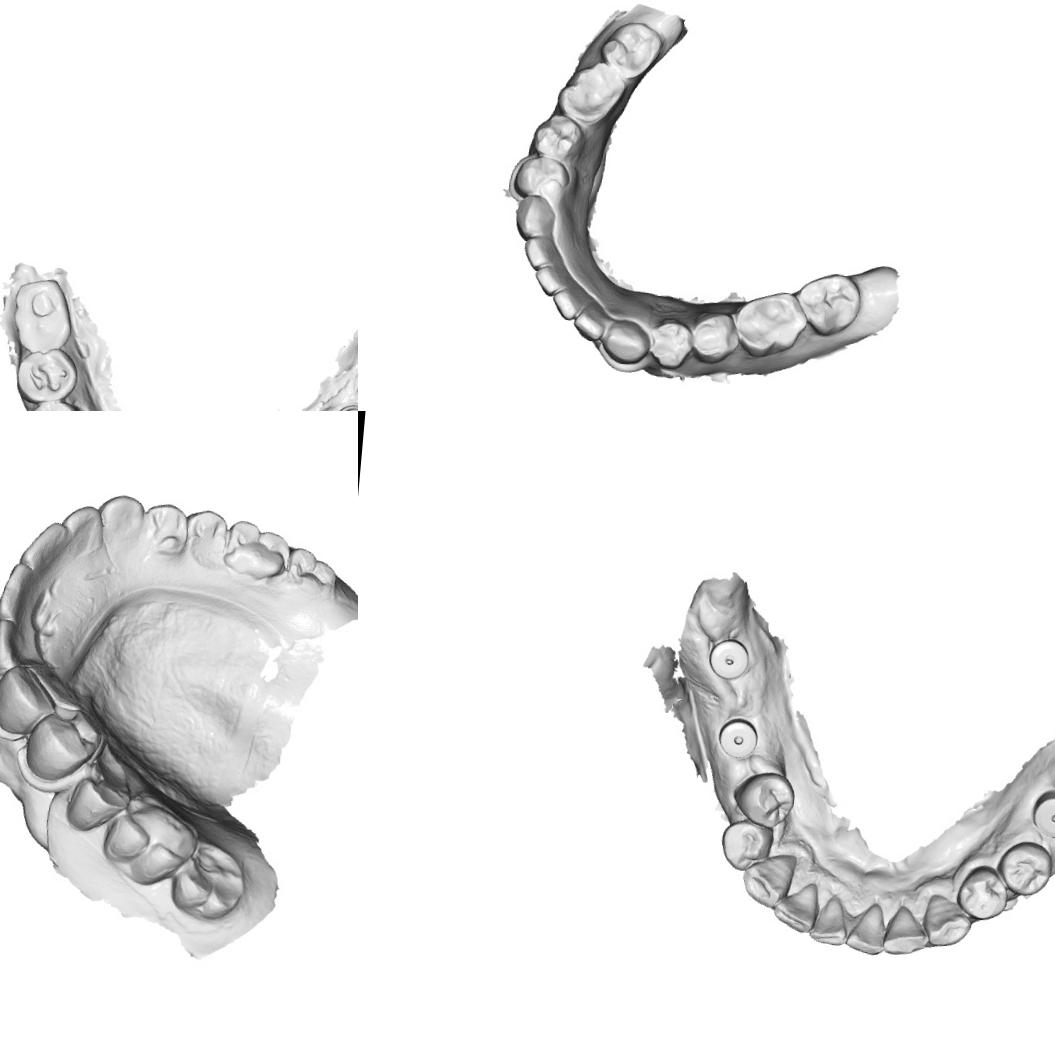canine: (0, 662, 57, 738), (738, 847, 798, 912), (921, 890, 975, 949), (96, 490, 147, 550), (600, 315, 652, 366), (511, 192, 557, 241)
implant: (705, 633, 754, 682), (713, 714, 762, 761), (1029, 787, 1055, 841)
incisor: (17, 517, 74, 575), (769, 877, 822, 937), (840, 898, 890, 957), (881, 901, 931, 958), (0, 561, 42, 621), (59, 500, 105, 554), (806, 891, 850, 947), (0, 615, 28, 670), (521, 232, 559, 270), (569, 306, 606, 343), (532, 264, 566, 298), (550, 286, 582, 322)
molar: (97, 799, 201, 887), (164, 837, 249, 922), (726, 285, 811, 363), (7, 274, 78, 356), (554, 56, 630, 130), (219, 514, 296, 582), (794, 267, 864, 340), (597, 17, 666, 80), (280, 541, 344, 600)
premolar: (24, 708, 102, 782), (62, 767, 130, 837), (10, 344, 81, 406), (730, 767, 798, 831), (992, 837, 1055, 899), (952, 861, 1011, 923), (144, 496, 198, 561), (716, 815, 774, 873), (508, 151, 573, 201), (688, 308, 742, 366), (530, 111, 588, 161), (646, 314, 695, 370), (184, 505, 230, 561), (20, 395, 84, 411)
